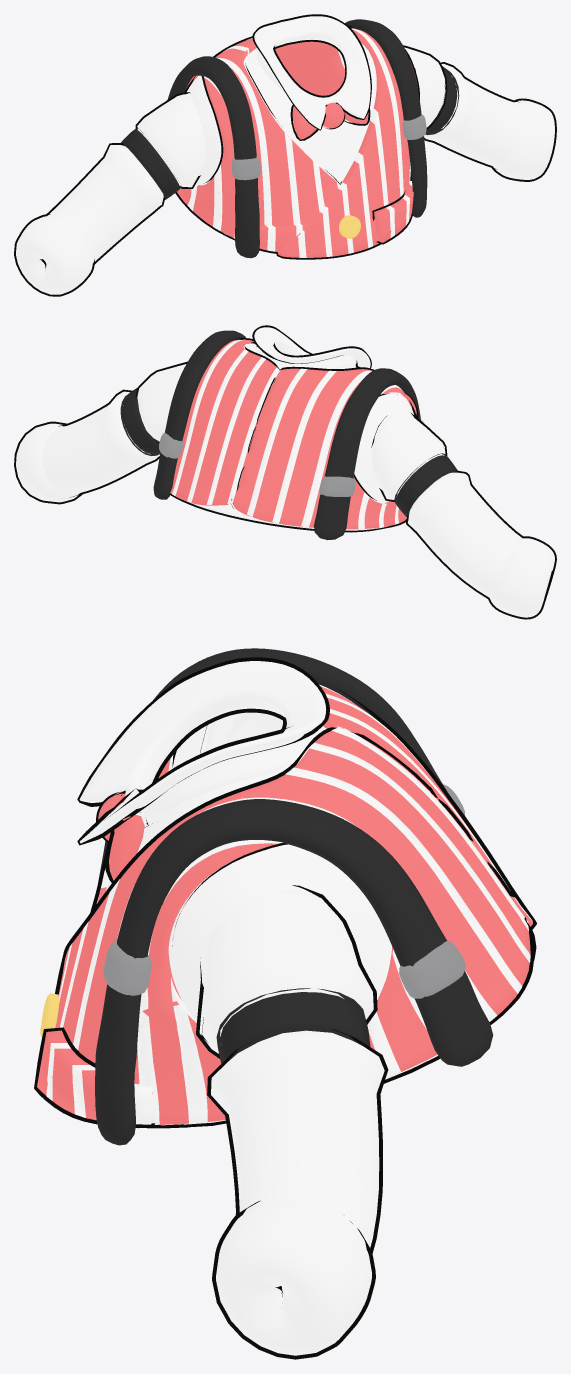
File: TORSO.MUSIC.BARBERSHOP.glb
The picture shows the model from 3 angles, top to bottom: view 1: azimuth 30°, elevation 25°; view 2: azimuth 150°, elevation 25°; view 3: azimuth 270°, elevation 25°; orthographic projection. The views are drawn at different scales.
Parts seen in each view (by area): view 1: TORSO.MUSIC.BARBERSHOP; view 2: TORSO.MUSIC.BARBERSHOP; view 3: TORSO.MUSIC.BARBERSHOP.
Boxes of the visible parts, x1=… form: TORSO.MUSIC.BARBERSHOP: x1=14, y1=14, x2=556, y2=296; TORSO.MUSIC.BARBERSHOP: x1=14, y1=325, x2=556, y2=619; TORSO.MUSIC.BARBERSHOP: x1=34, y1=648, x2=536, y2=1359.
Size of the model in its own units: 2.37 by 0.9086 by 0.97.
